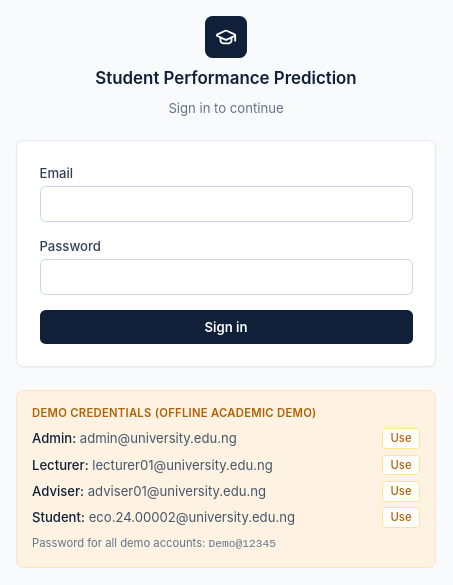
Test: Login page › fills the form when a demo account "Use" button is clicked
The image size is (453, 585).
Step 1. Click the button "Use" next to "admin@university.edu.ng" → (401, 439), box [382, 428, 420, 449]
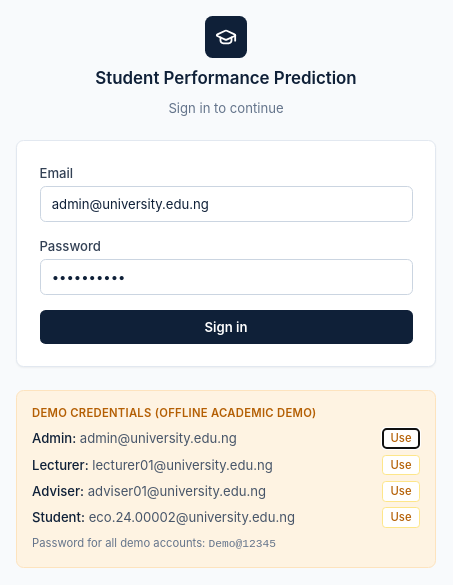
Result: the field labelled "Email" holds "admin@university.edu.ng" at [40, 186, 412, 222]
Result: the password field labelled "Password" holds "Demo@12345" at [40, 259, 412, 295]
